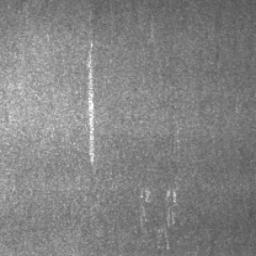Bright scratch: (88, 43, 94, 161)
